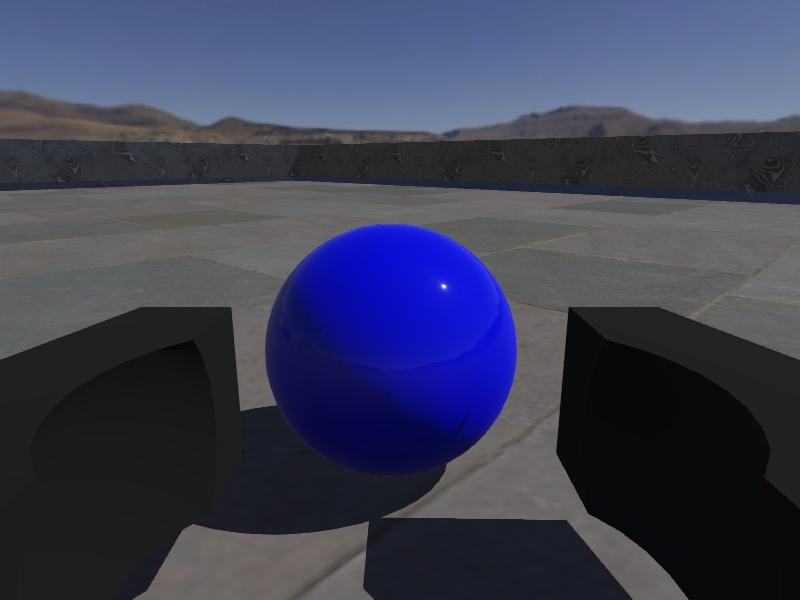blue ball: (265, 222, 518, 477)
